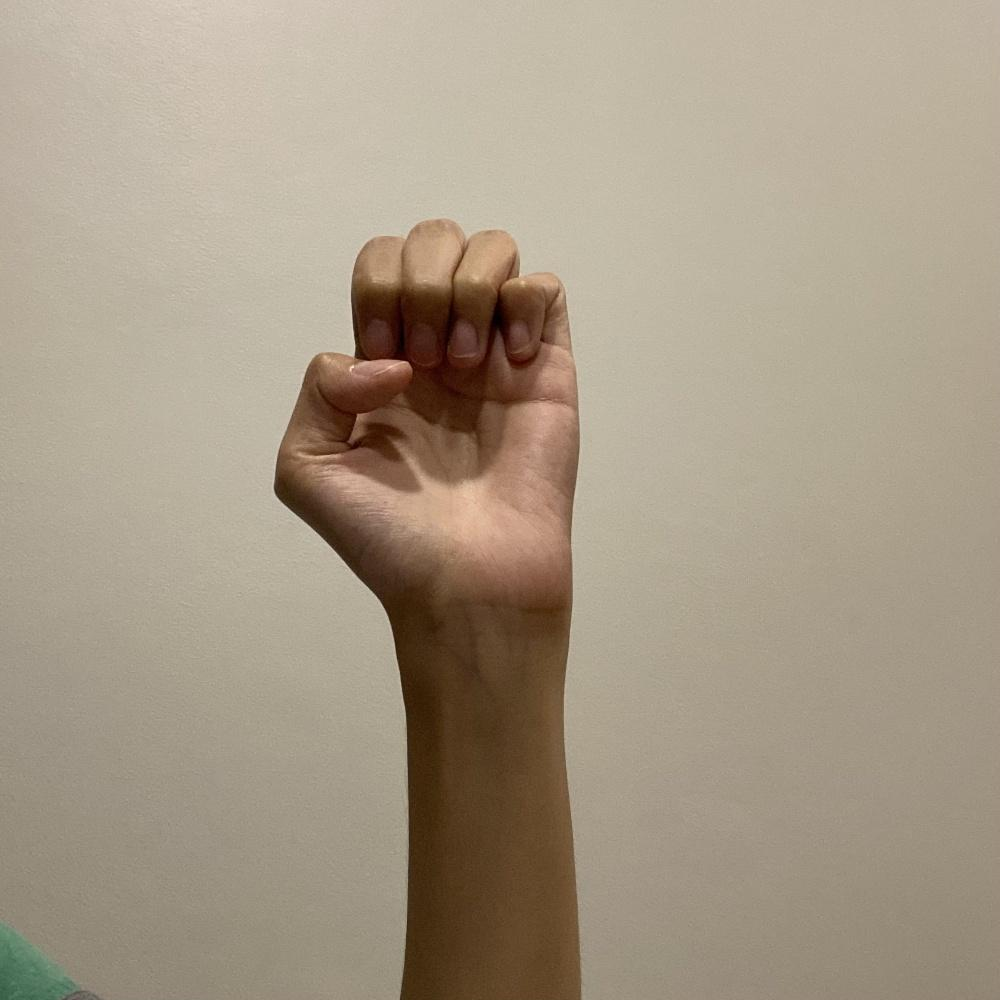e: (267, 212, 586, 631)
